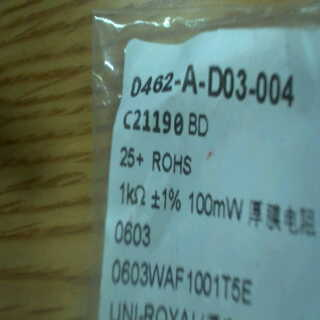1kR: (117, 180, 150, 215)
